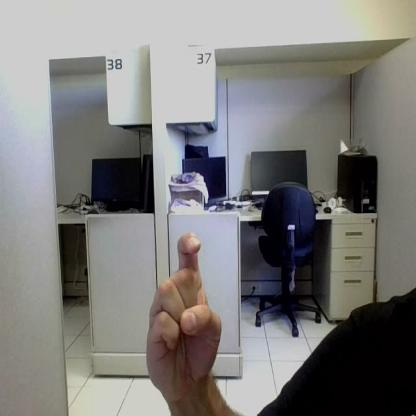X: (147, 233, 222, 397)
